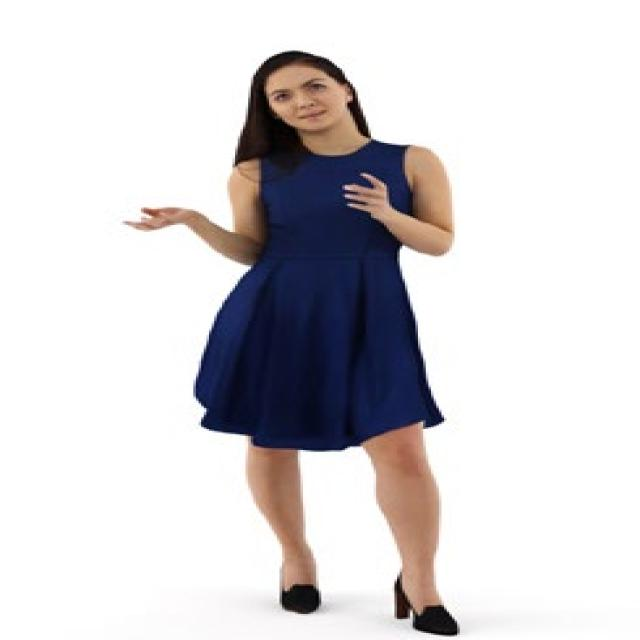standing: (120, 49, 464, 640)
